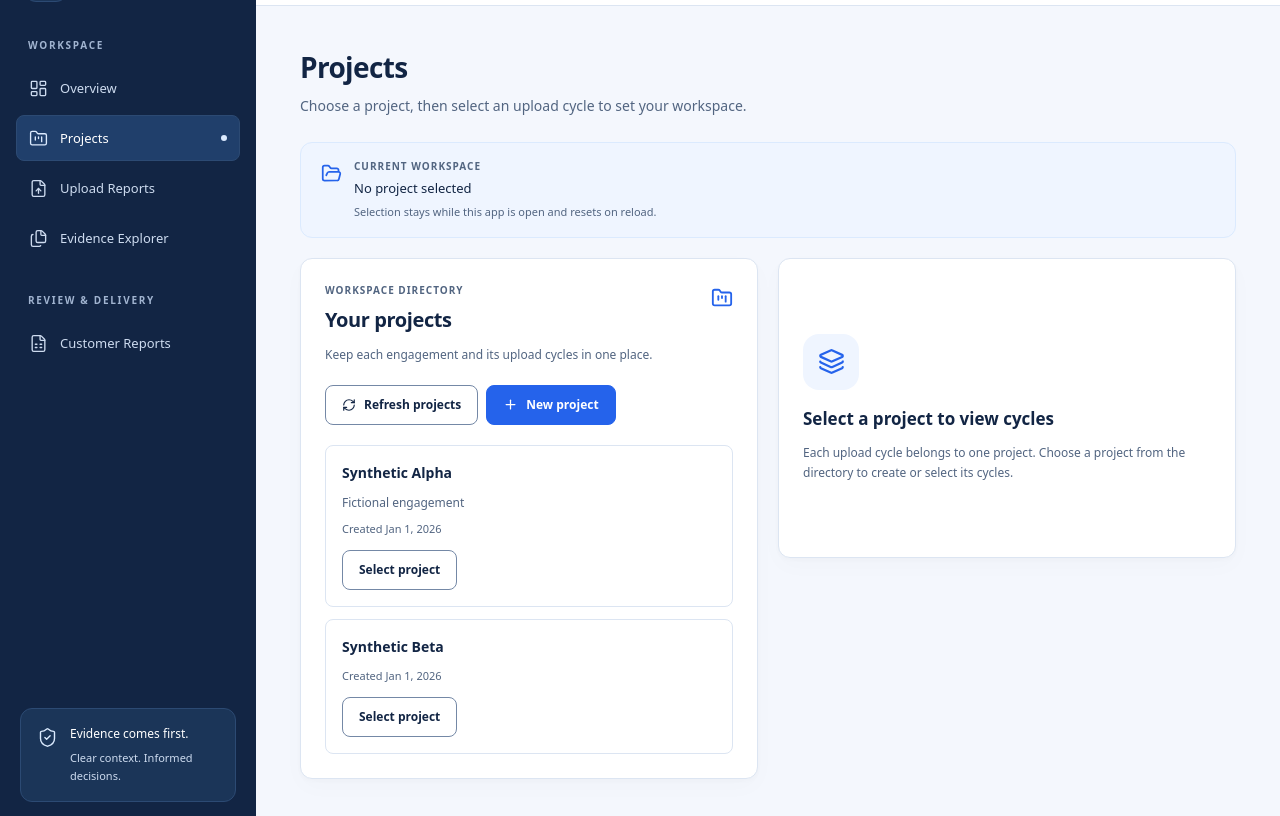
it: Projects and upload cycles › preserves form input after a creation failure and permits a deliberate retry
This screenshot has width=1280, height=816.
Click the button "New project".
click(551, 405)  # box [486,385,616,425]
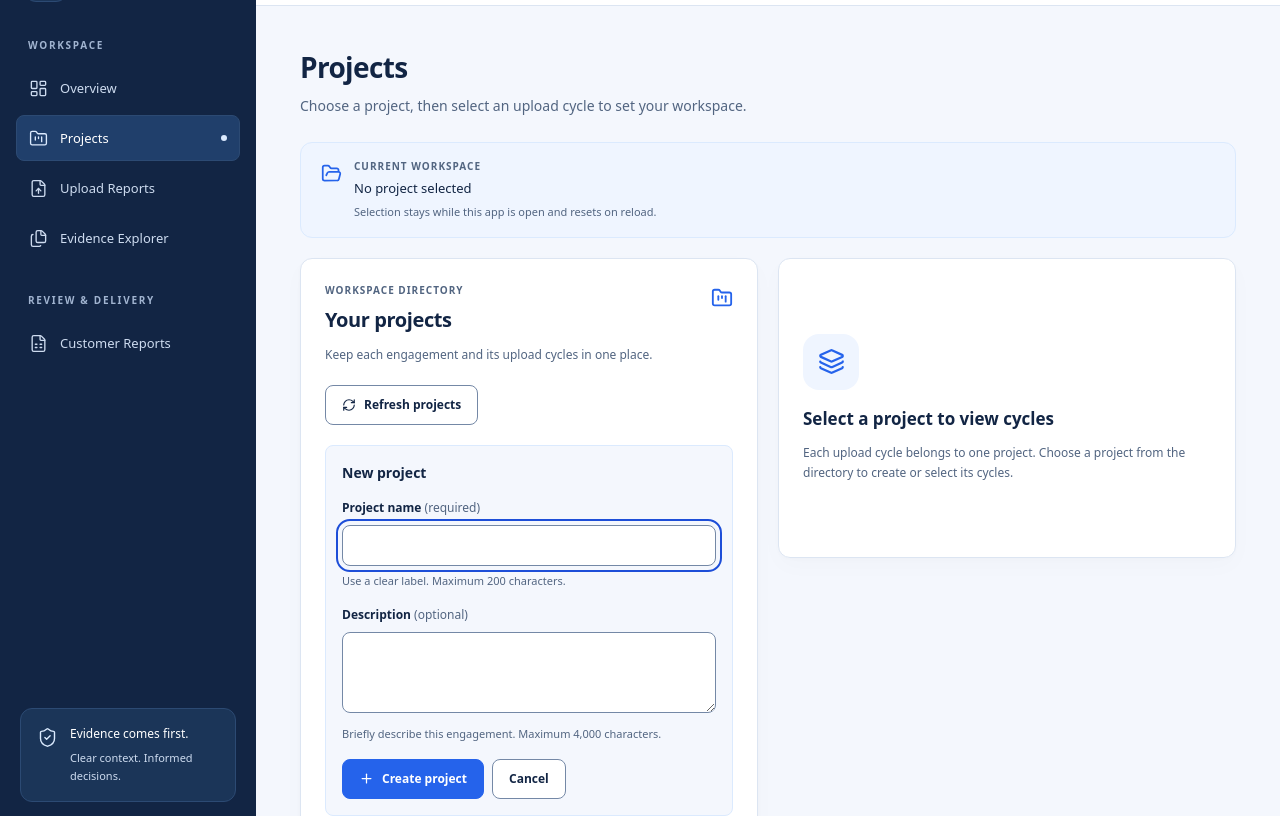
Type "Retry pilot" into the field labelled "Project name".
click(529, 546); type("Retry pilot")  # box [342,525,716,566]
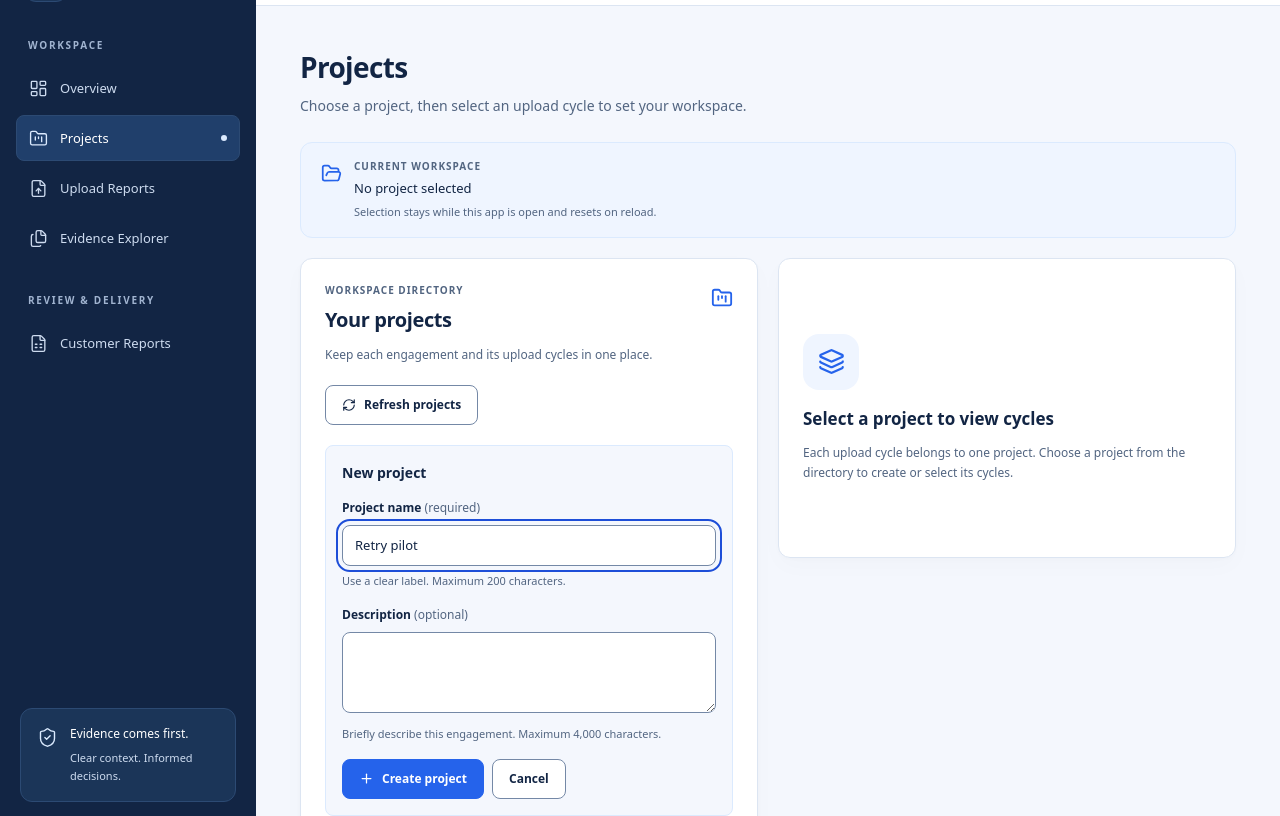
Click the button "Create project".
click(413, 778)  # box [342,758,484,798]
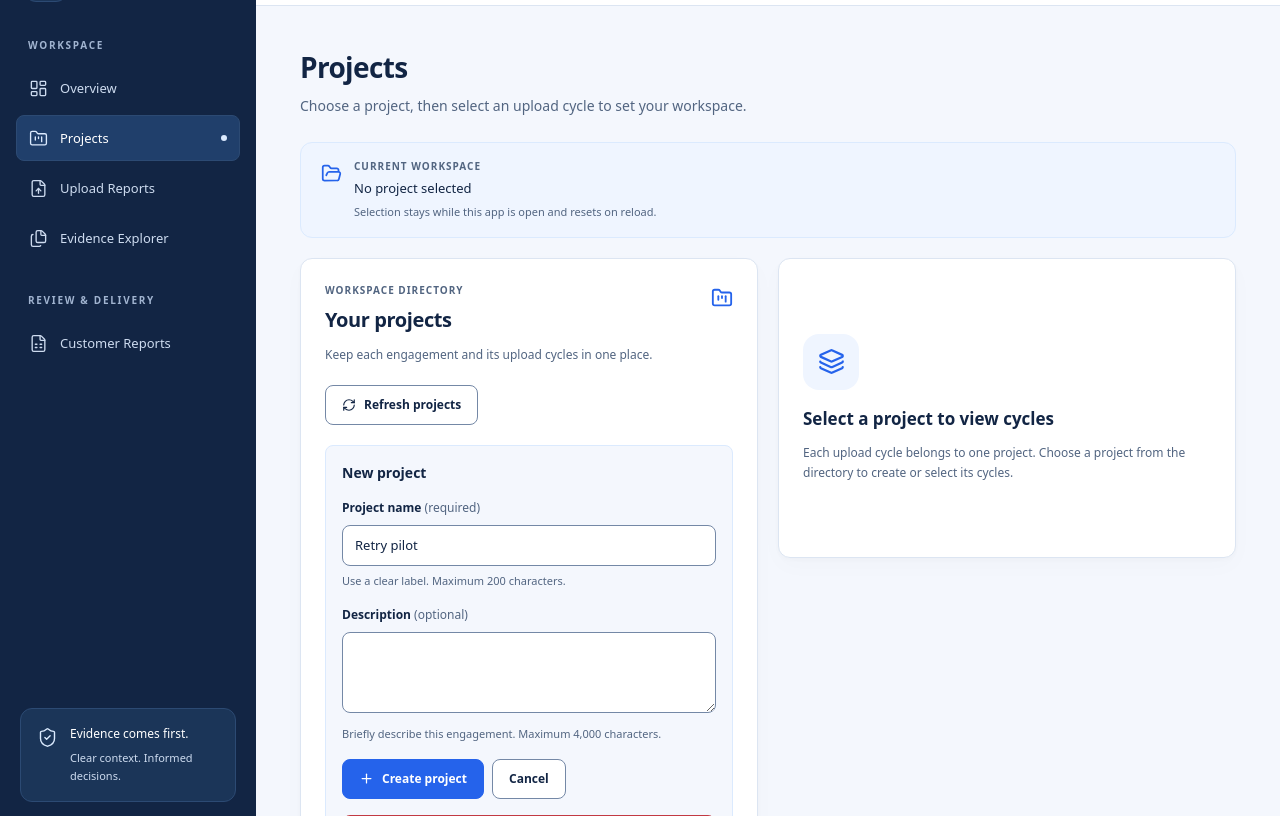
Click the button "Create project".
click(413, 778)  # box [342,758,484,798]
(page scrolled)
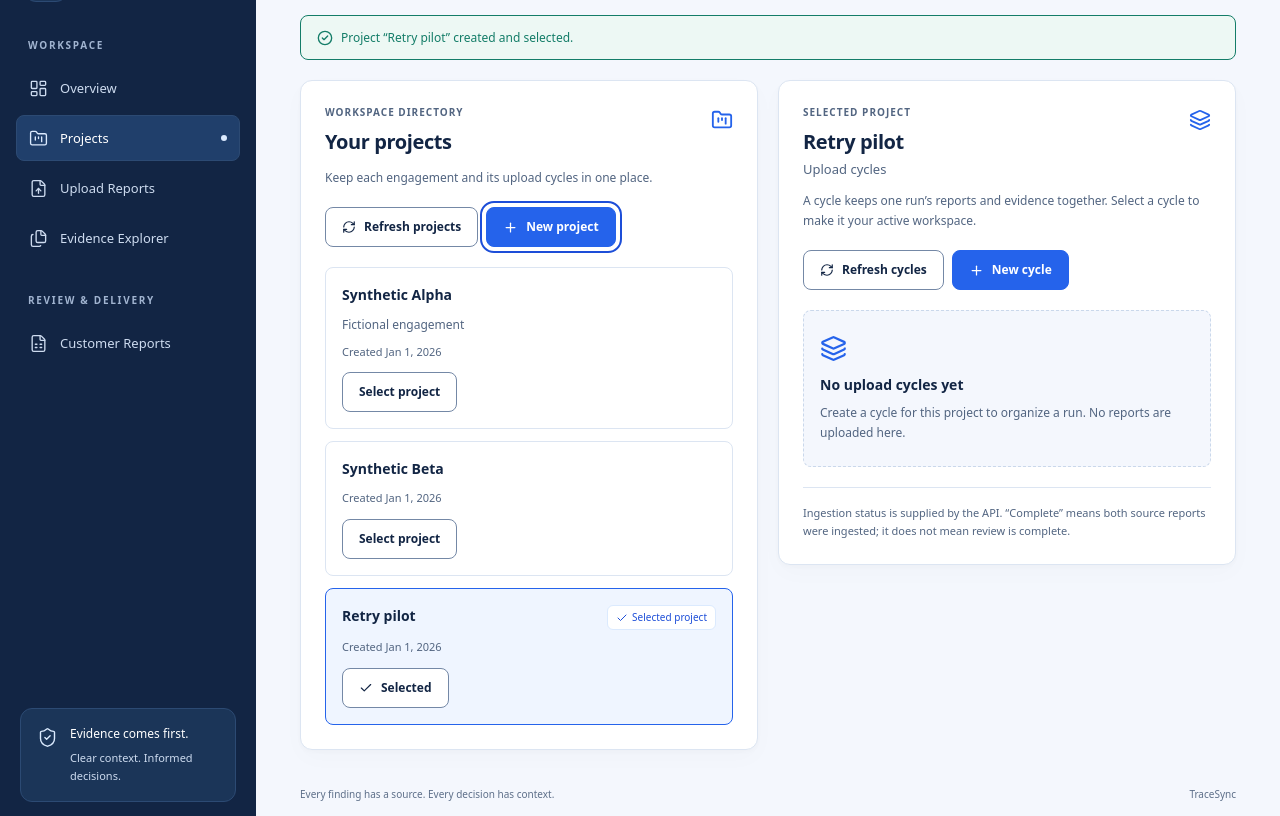
Now the heading "Retry pilot" below "Synthetic Beta" is shown, box [342,605,416,628]
